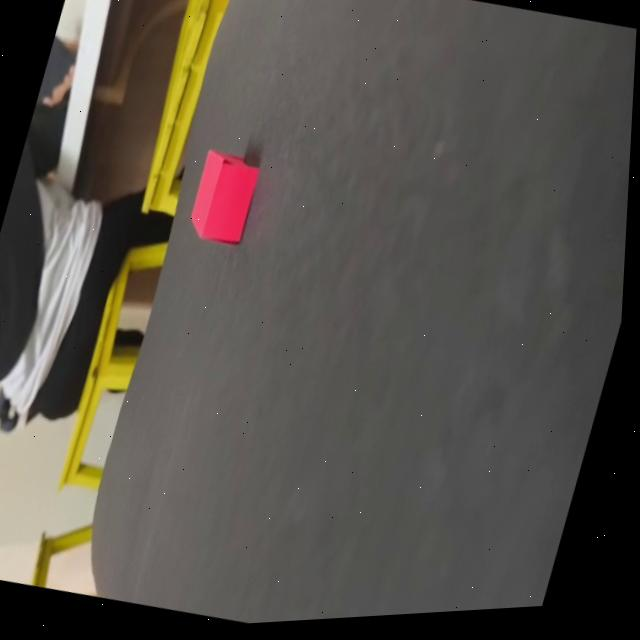red block: (182, 143, 264, 248)
